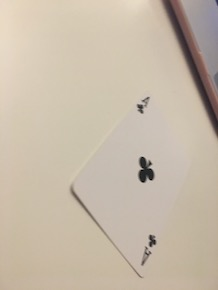AceOfClubs: (62, 87, 200, 280)
